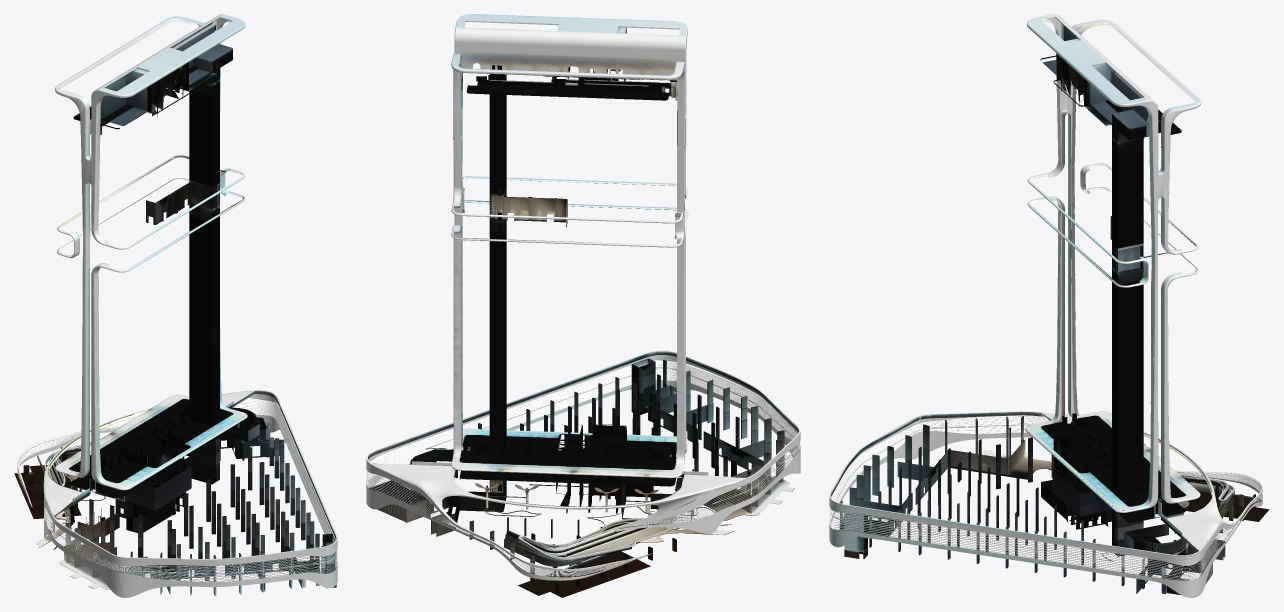
The model's file is Velos_build_2.glb.
3 views of the same model, side by side, from view 1: azimuth 30°, elevation 25°; view 2: azimuth 150°, elevation 25°; view 3: azimuth 270°, elevation 25° (orthographic). The views are drawn at different scales.
Parts seen in each view (by area): view 1: Velos_build.002; view 2: Velos_build.002; view 3: Velos_build.002.
Part boxes in pixels (left/top/right/bottom): Velos_build.002: left=14, top=14, right=337, bottom=597; Velos_build.002: left=366, top=14, right=800, bottom=597; Velos_build.002: left=829, top=14, right=1269, bottom=597.
Size of the model in its own units: 130 by 195 by 162.
1 material, 1 textured.
